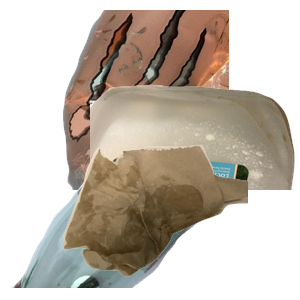glass: (10, 120, 224, 300)
metal: (60, 10, 300, 190)
plastic: (90, 82, 300, 262)
trash: (60, 142, 300, 300)
